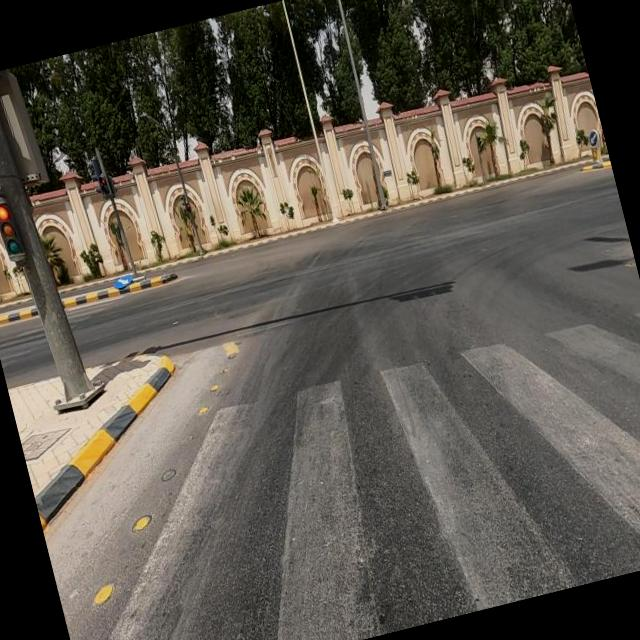debris: (78, 227, 182, 331)
